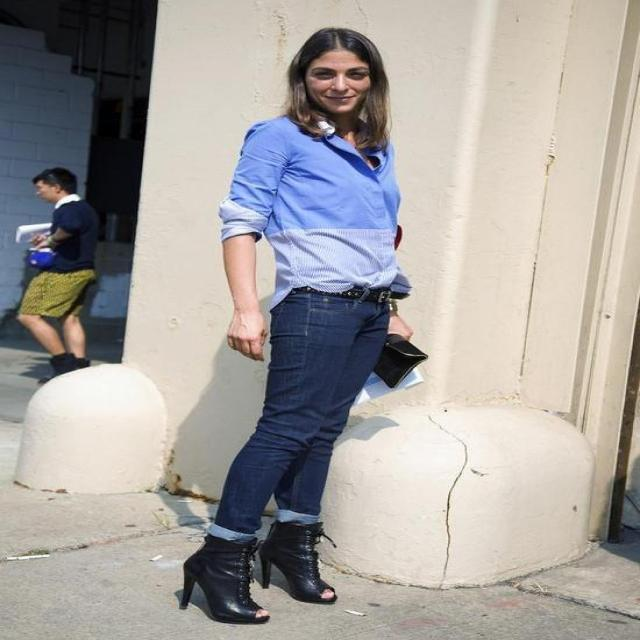pants: (209, 286, 390, 542)
shirt: (221, 111, 410, 310)
